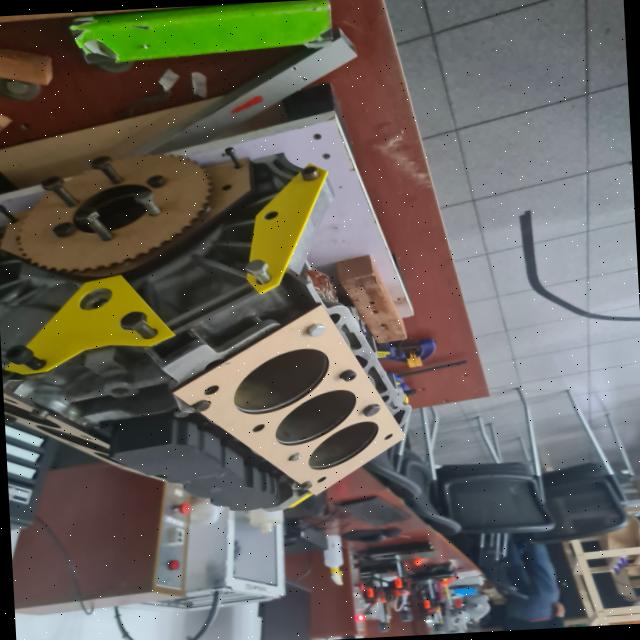tor_v1: (174, 304, 406, 493)
